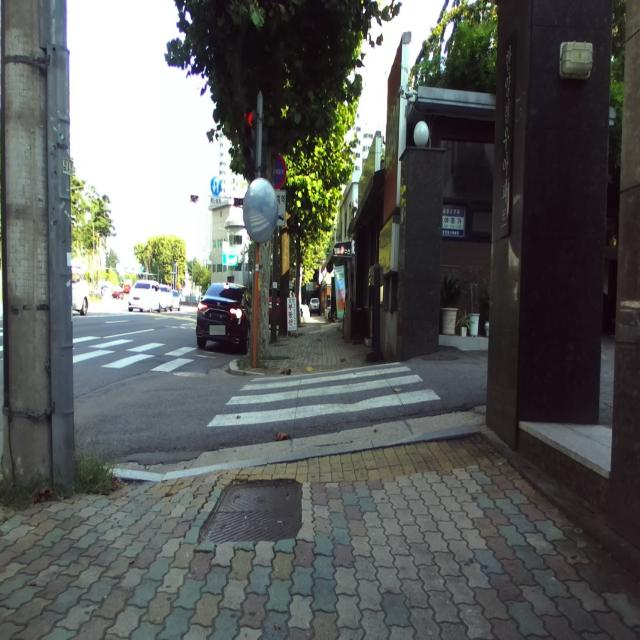횡단보도: (207, 362, 441, 427), (72, 329, 205, 375)
